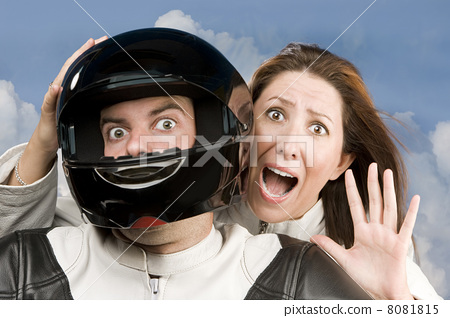helmet: (52, 19, 240, 223)
